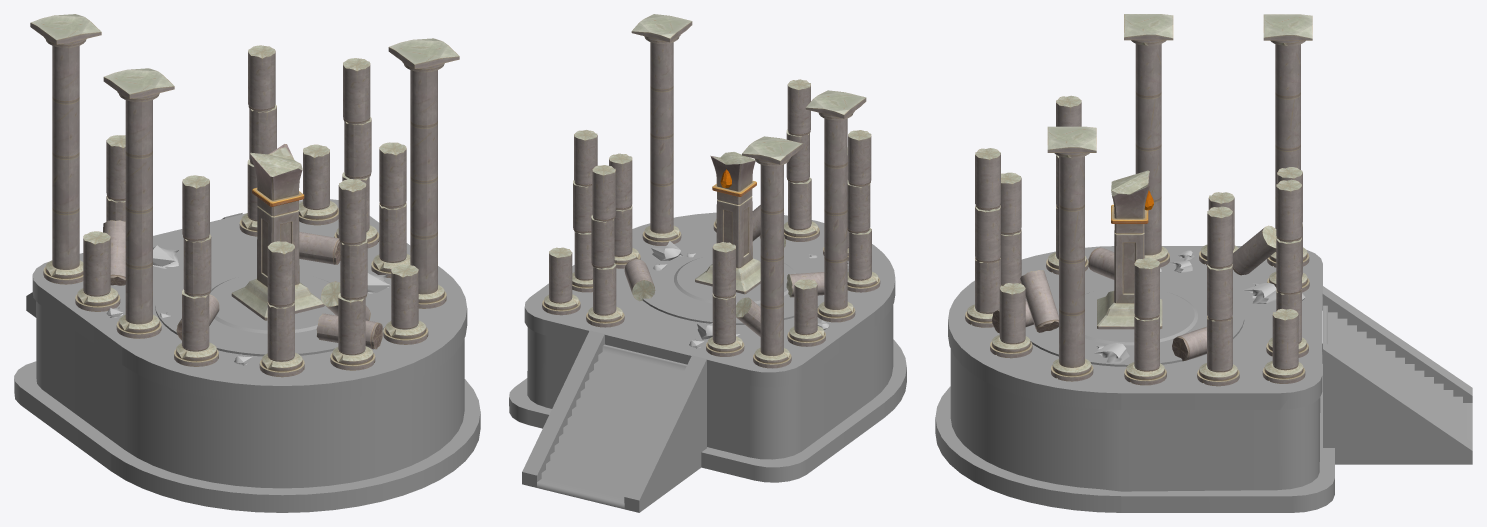
The model's file is Lieu_diamant.fbx.
3 views of the same model, side by side, from view 1: azimuth 30°, elevation 25°; view 2: azimuth 150°, elevation 25°; view 3: azimuth 270°, elevation 25° (orthographic). The views are drawn at different scales.
Visible parts, largest first — view 1: polySurface293; view 2: polySurface293; view 3: polySurface293.
Boxes of the visible parts, x1,y1,x2,y2 form: polySurface293: (14, 14, 480, 512); polySurface293: (509, 14, 906, 512); polySurface293: (935, 14, 1472, 512).
Bounding box in the file's own units: 7.41 × 7.66 × 10.65.
